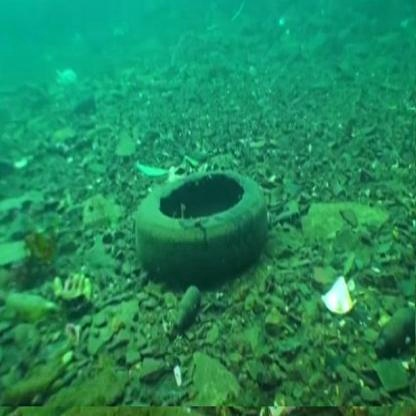tire: (128, 146, 310, 308)
